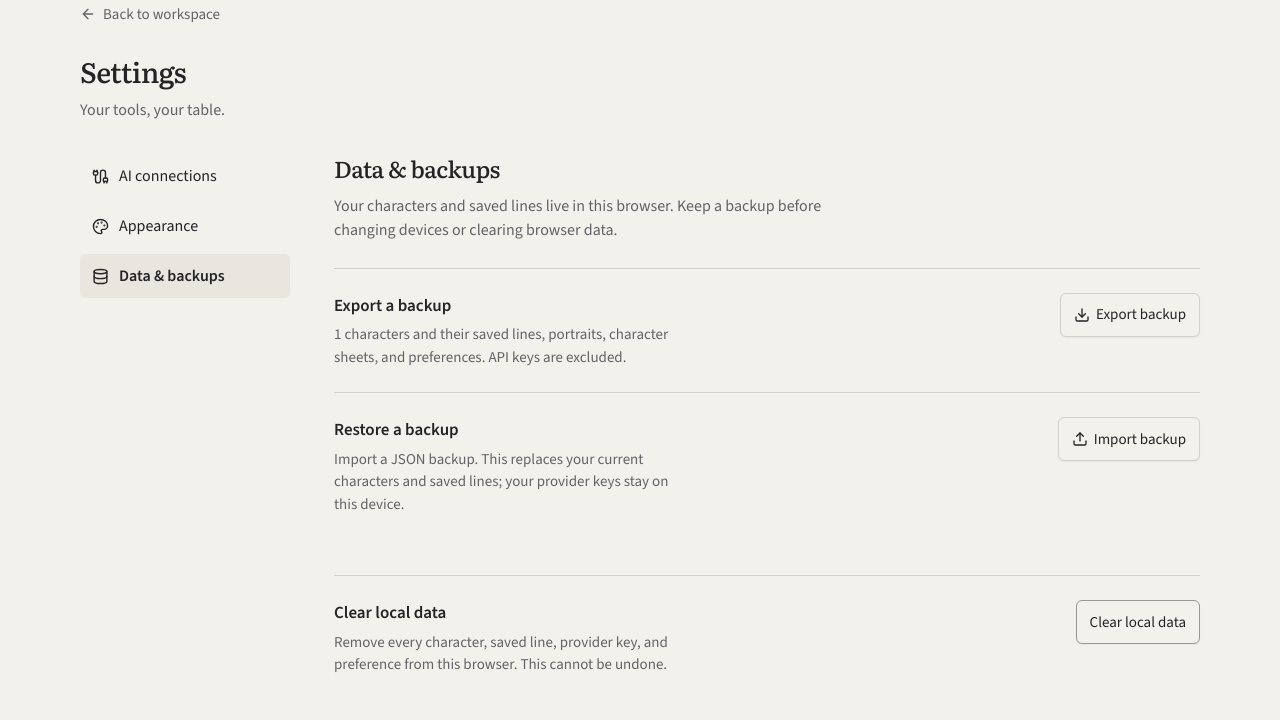
Test: exports a backup and reports a failed download
The width and height of the screenshot is (1280, 720).
Click the button "Export backup".
click(1130, 315)  # box top-left (1060, 293), bottom-right (1200, 337)
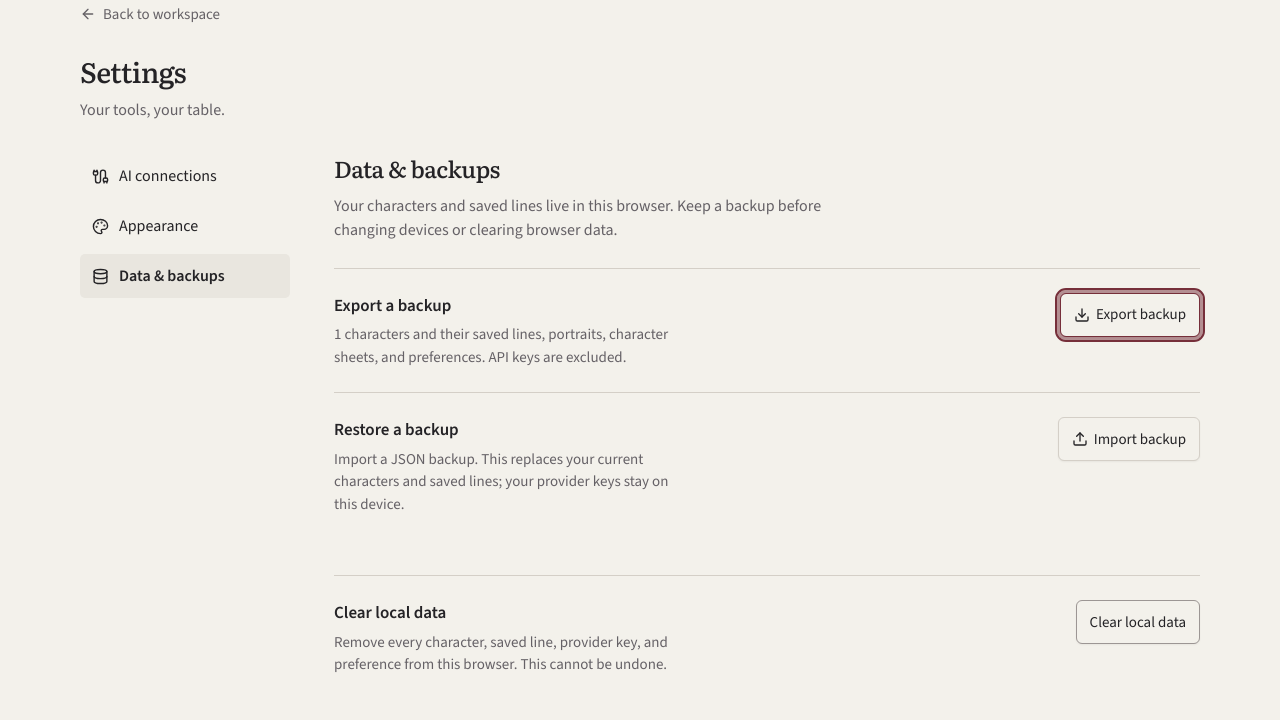
Click the button "Export backup".
click(1130, 315)  # box top-left (1060, 293), bottom-right (1200, 337)
(page scrolled)
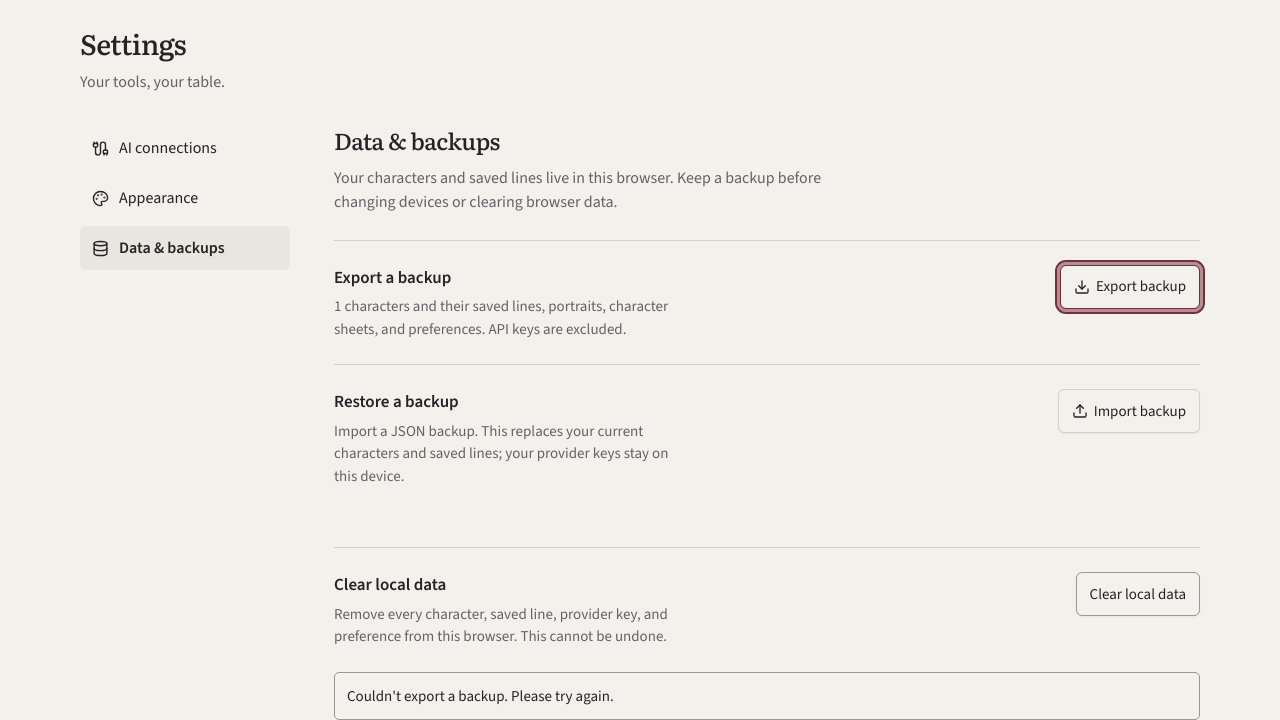
Now the message shows "Couldn't export", box top-left (347, 686), bottom-right (614, 706)
